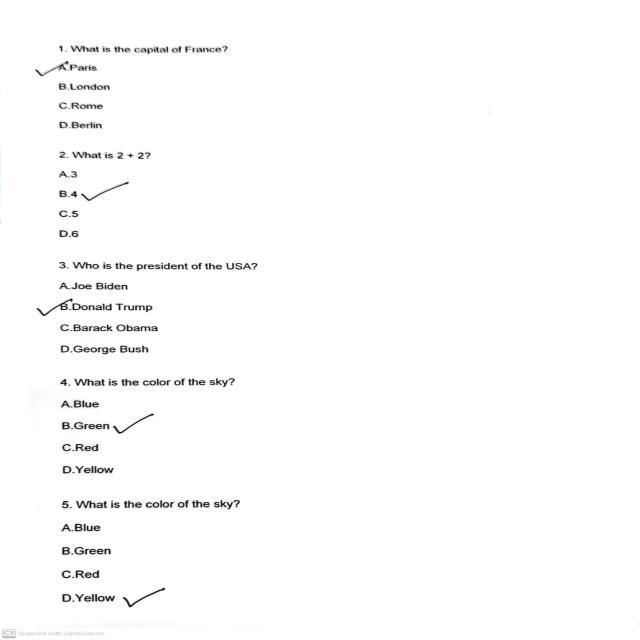Student_Ticked: (111, 411, 166, 437), (80, 179, 132, 203), (120, 585, 169, 609), (34, 54, 70, 79), (36, 296, 75, 316)
